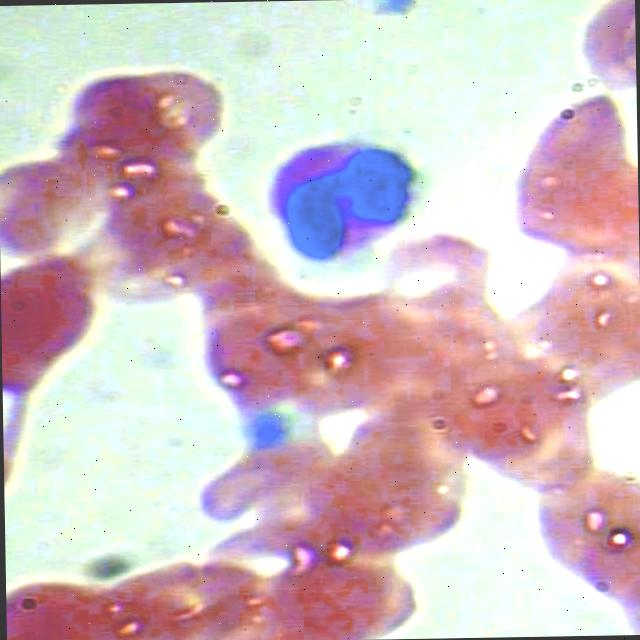Platelets: (238, 402, 288, 453), (370, 0, 422, 27)
RBC: (499, 88, 635, 256), (296, 440, 470, 555), (251, 544, 423, 640), (108, 546, 280, 640), (48, 65, 225, 154), (0, 250, 100, 401), (514, 458, 640, 561), (196, 302, 311, 414), (462, 407, 594, 504), (372, 233, 503, 329), (422, 352, 552, 448), (0, 153, 108, 265), (4, 566, 137, 640)
WBC: (250, 112, 424, 278)
